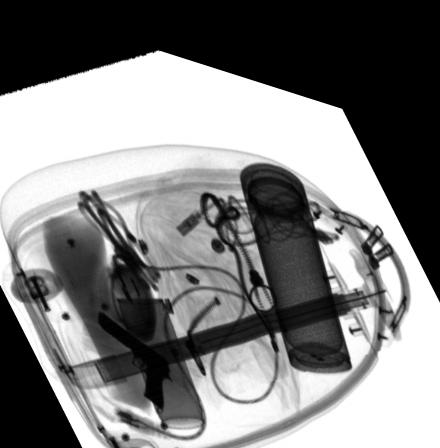Gun: (97, 302, 172, 402)
